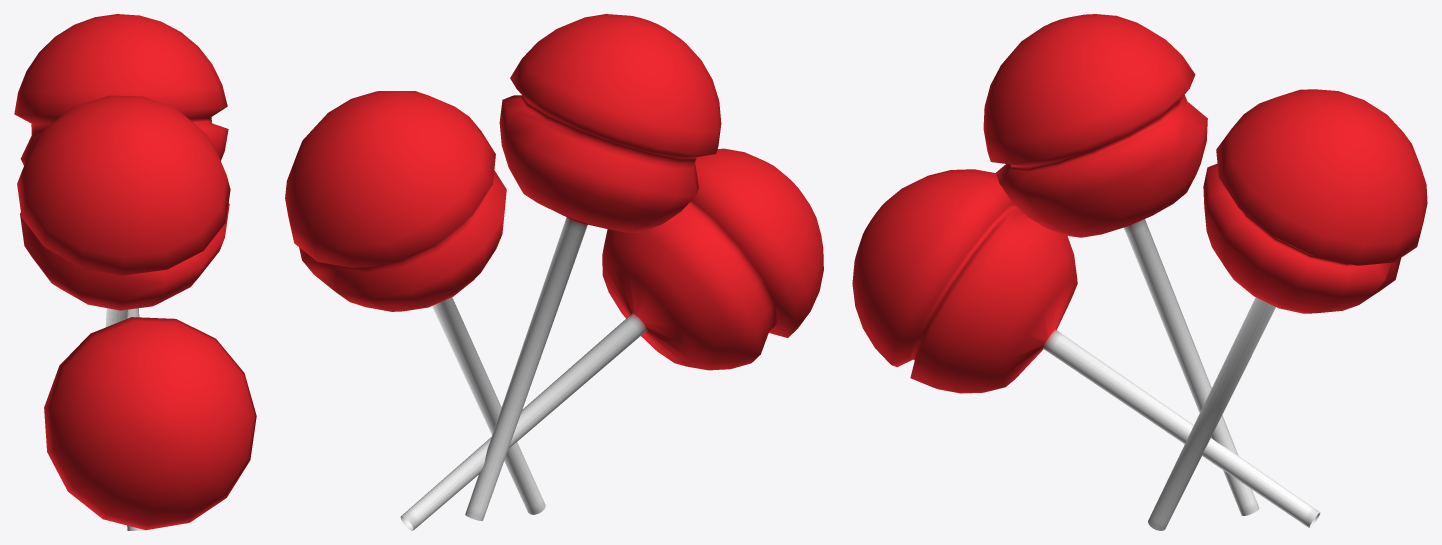
Rendered from lollipops.obj.
The picture shows the model from 3 angles, left to right: view 1: azimuth 30°, elevation 25°; view 2: azimuth 150°, elevation 25°; view 3: azimuth 270°, elevation 25°; orthographic projection. The views are drawn at different scales.
Visible parts, largest first — view 1: pSphere1, pSphere3, pSphere2; view 2: pSphere1, pSphere2, pSphere3; view 3: pSphere2, pSphere1, pSphere3.
Boxes of the visible parts, x1=… form: pSphere1: x1=17, y1=95, x2=230, y2=327; pSphere3: x1=44, y1=317, x2=256, y2=530; pSphere2: x1=14, y1=14, x2=228, y2=530; pSphere1: x1=465, y1=14, x2=721, y2=520; pSphere2: x1=285, y1=91, x2=545, y2=514; pSphere3: x1=400, y1=148, x2=823, y2=530; pSphere2: x1=1148, y1=89, x2=1427, y2=530; pSphere1: x1=983, y1=14, x2=1259, y2=515; pSphere3: x1=852, y1=169, x2=1320, y2=528.
Size of the model in its own units: 3.49 by 4.71 by 5.09.
